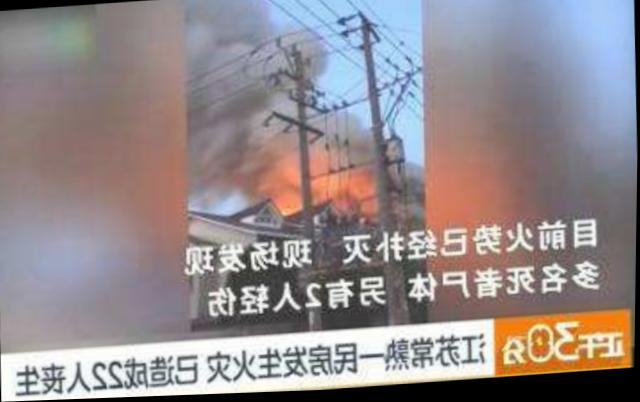fire: (255, 137, 382, 225)
